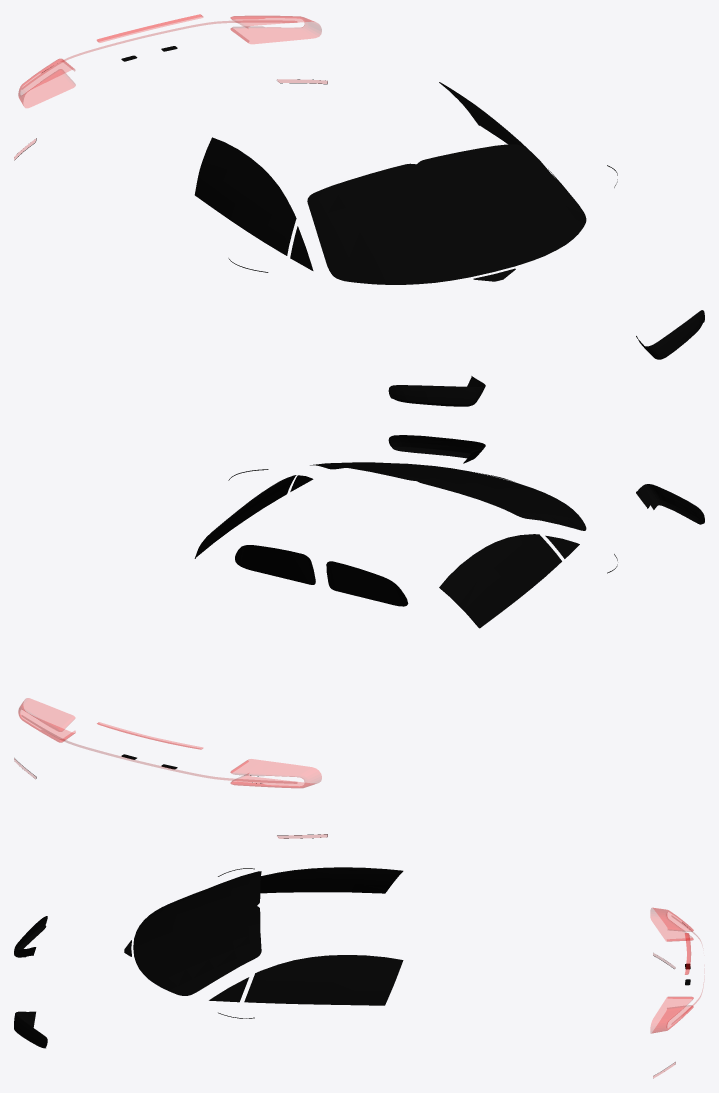
File: Window.glb
3 renders of one model, top to bottom at view 1: azimuth 30°, elevation 25°; view 2: azimuth 150°, elevation 25°; view 3: azimuth 270°, elevation 25°, orthographic. The views are drawn at different scales.
Parts seen in each view (by area): view 1: B:Kit2_Window_Geo_lodA_Kit2_Window_Geo_lodA_Bugatti_ChironPr (×2); view 2: B:Kit2_Window_Geo_lodA_Kit2_Window_Geo_lodA_Bugatti_ChironPr (×2); view 3: B:Kit2_Window_Geo_lodA_Kit2_Window_Geo_lodA_Bugatti_ChironPr (×2).
Boxes of the visible parts, x1,y1,x2,y2 form: B:Kit2_Window_Geo_lodA_Kit2_Window_Geo_lodA_Bugatti_ChironPr (×2): (14,14,704,406); B:Kit2_Window_Geo_lodA_Kit2_Window_Geo_lodA_Bugatti_ChironPr (×2): (14,435,704,838); B:Kit2_Window_Geo_lodA_Kit2_Window_Geo_lodA_Bugatti_ChironPr (×2): (14,867,702,1077).
Size of the model in its own units: 0.0218 by 0.0076 by 0.0425.
